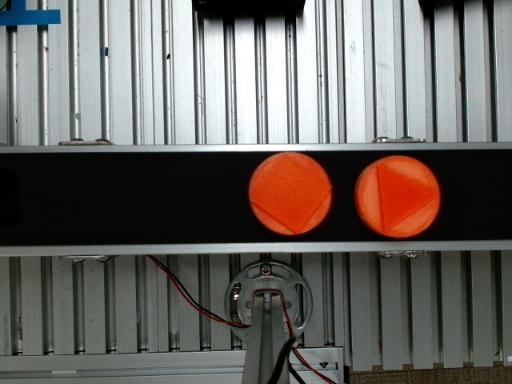Not_Square: (377, 162, 439, 233)
Orange_Waper: (354, 155, 440, 238), (249, 154, 331, 234)
Square: (249, 153, 333, 235)
